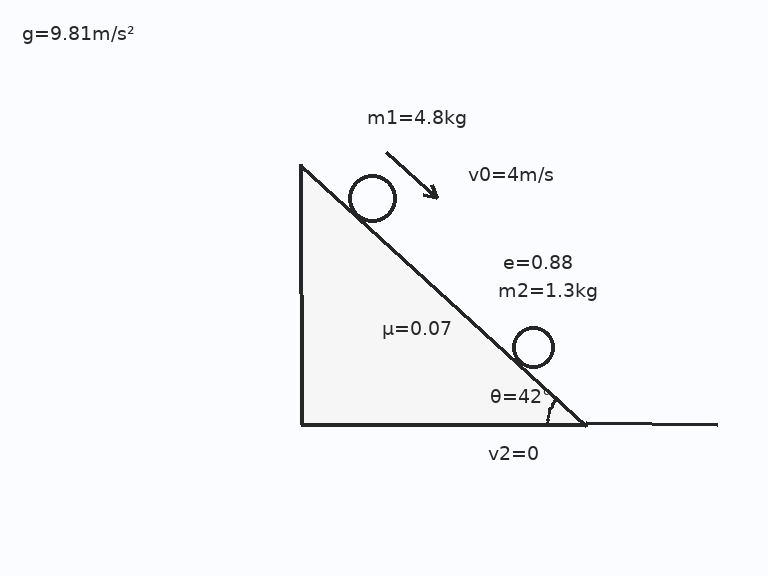ball: (346, 172, 398, 224), (510, 324, 556, 370)
ramp: (297, 163, 589, 426)
